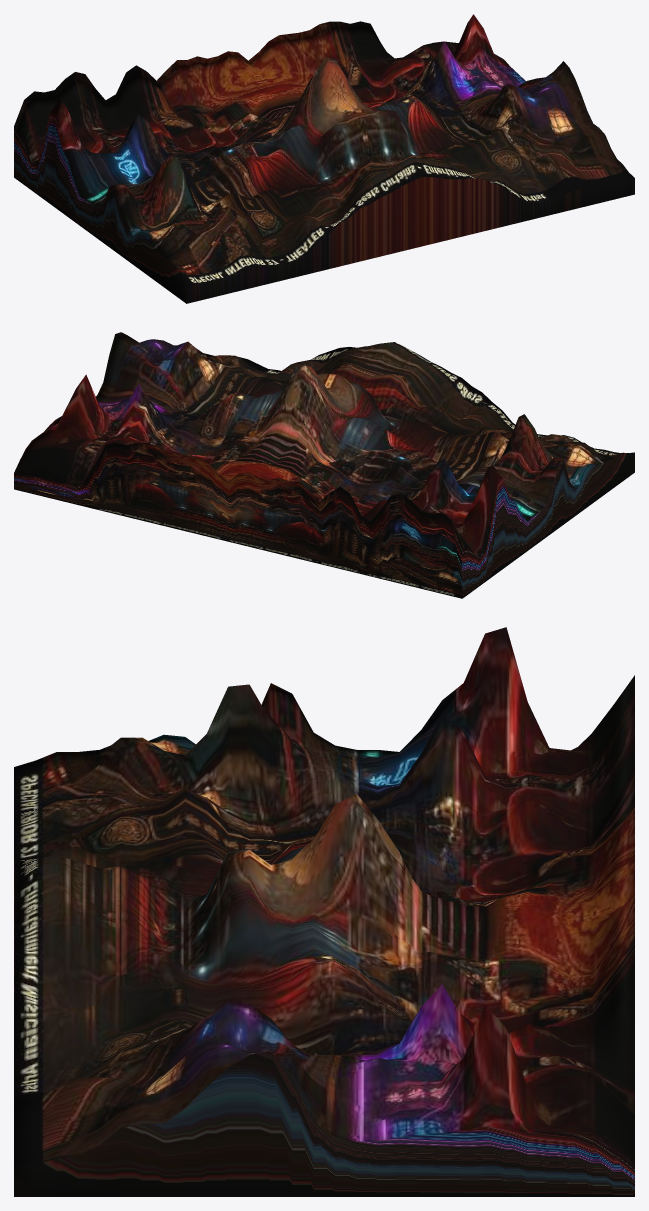
The model's file is SPECIAL_INT_27_Theater.glb.
3 renders of one model, top to bottom at view 1: azimuth 30°, elevation 25°; view 2: azimuth 150°, elevation 25°; view 3: azimuth 270°, elevation 25°, orthographic. The views are drawn at different scales.
Parts seen in each view (by area): view 1: SPECIAL_INT_27_Theater; view 2: SPECIAL_INT_27_Theater; view 3: SPECIAL_INT_27_Theater.
Boxes of the visible parts, left/top/right/bottom form: SPECIAL_INT_27_Theater: left=14, top=14, right=634, bottom=303; SPECIAL_INT_27_Theater: left=14, top=332, right=634, bottom=598; SPECIAL_INT_27_Theater: left=14, top=627, right=634, bottom=1196.
Bounding box in the file's own units: 2 × 0.51 × 1.33.
Materials: 1 (1 with a texture image).
